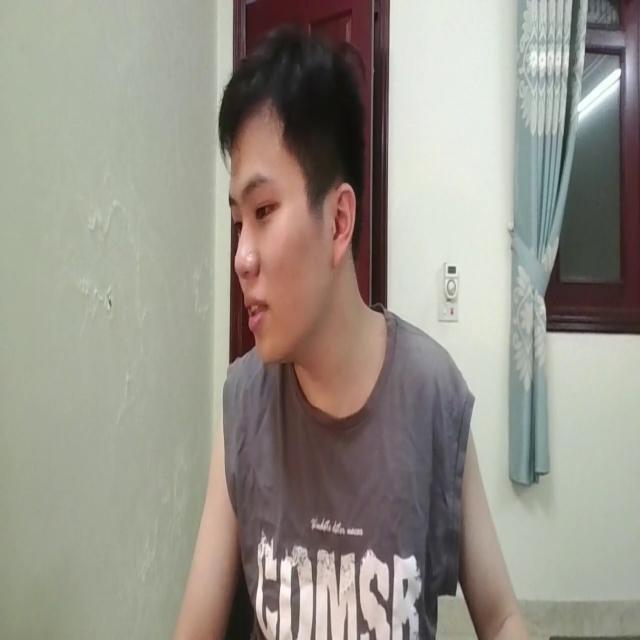student: (165, 28, 528, 640)
